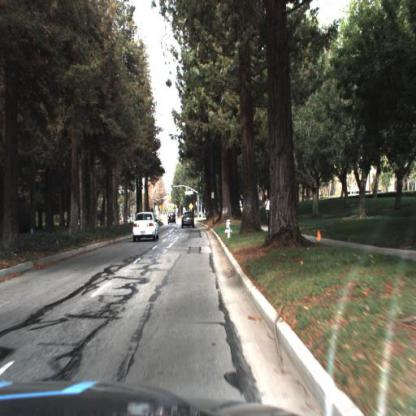car: (132, 210, 160, 244), (181, 210, 198, 230), (167, 212, 177, 227)
